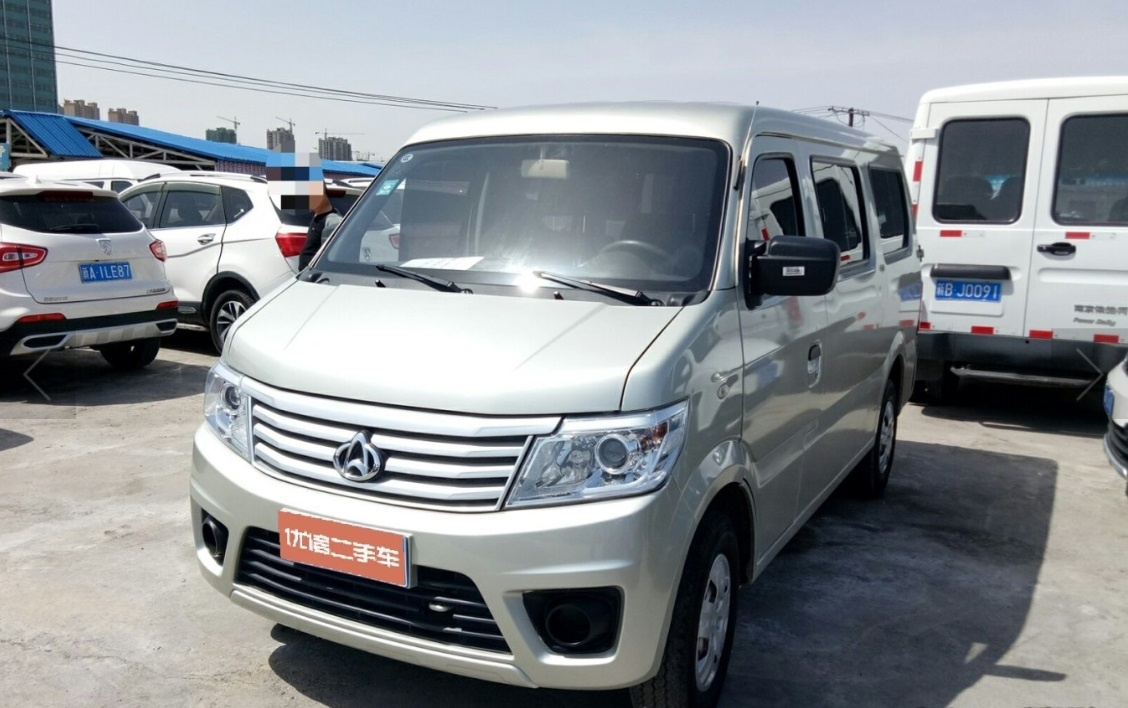minibus: (185, 99, 952, 693)
